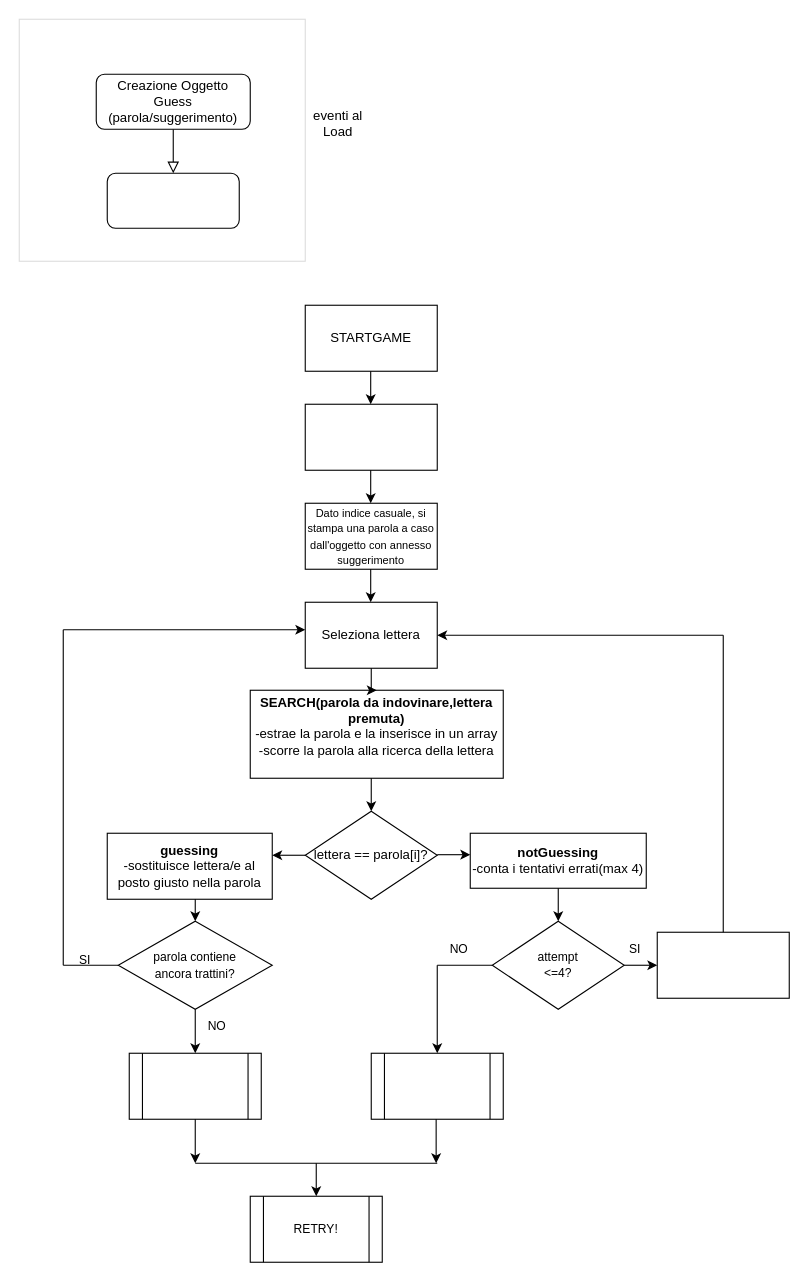
This 809x1282 diagram has some shape labels left out. Here are the shapes that lost their labels. From the top down, the centre of each, then its label:
At point (172, 200): "aggiunta funzione search onClick su tutti i tasti della tastiera".
At point (370, 436): "Creazione elementi DOM per parola tratteggiata e suggerimento".
At point (722, 964): "cambia sfondo ad ogni errore".
At point (194, 1085): "VITTORIA!".
At point (436, 1085): "SCONFITTA!".
